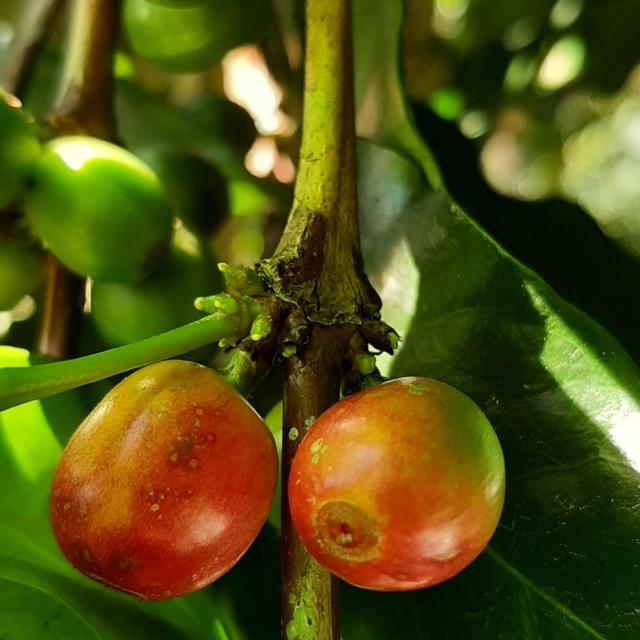green: (24, 135, 172, 284)
yellow: (49, 361, 277, 602), (289, 377, 506, 592)
